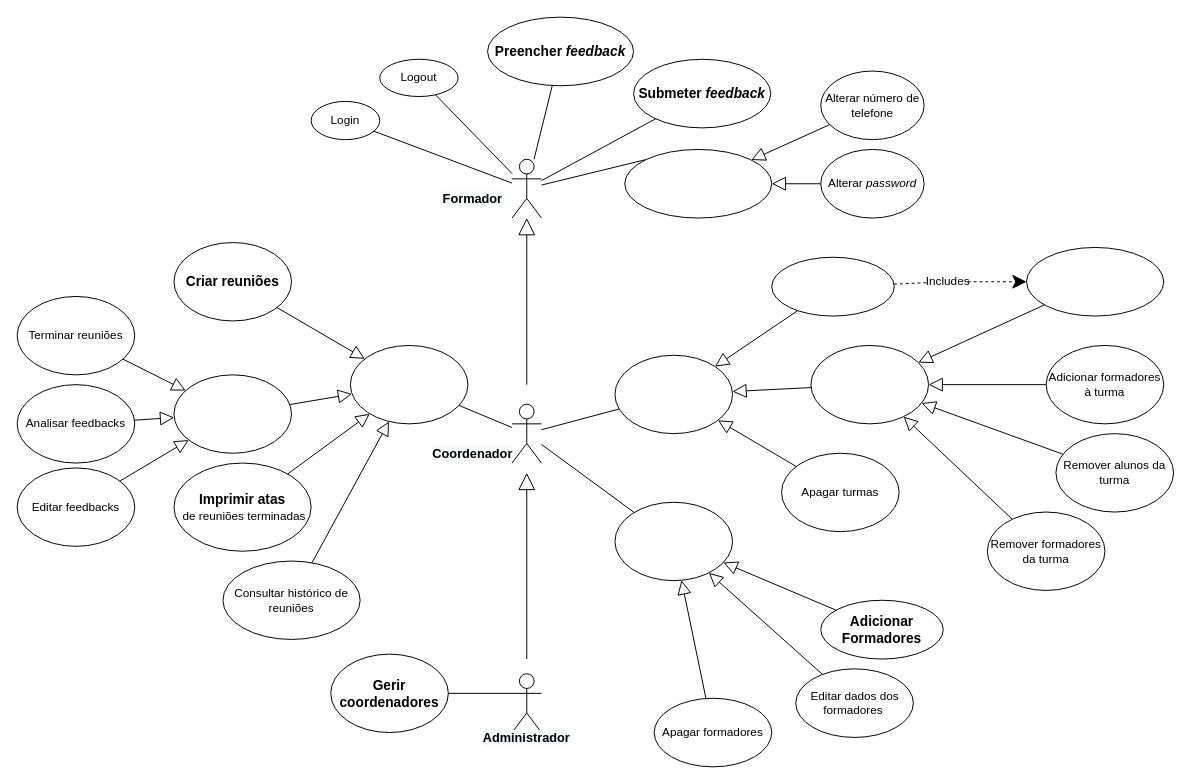
The diagram is 1191 pixels wide and 784 high, and some of its shapes have lost their labels. The shapes that lost their labels are listed below. From the top down, each one's centre as x and y in pixels, then its label:
pixel 698 183: Gerir conta
pixel 832 286: Adicionar turmas
pixel 1095 281: Adicionar alunos à turma
pixel 408 384: Gerir reuniões
pixel 673 394: Gerir turmas
pixel 869 384: Gerir elementos da turma
pixel 232 413: Gerir reuniões em aberto
pixel 673 541: Gerir Formadores
